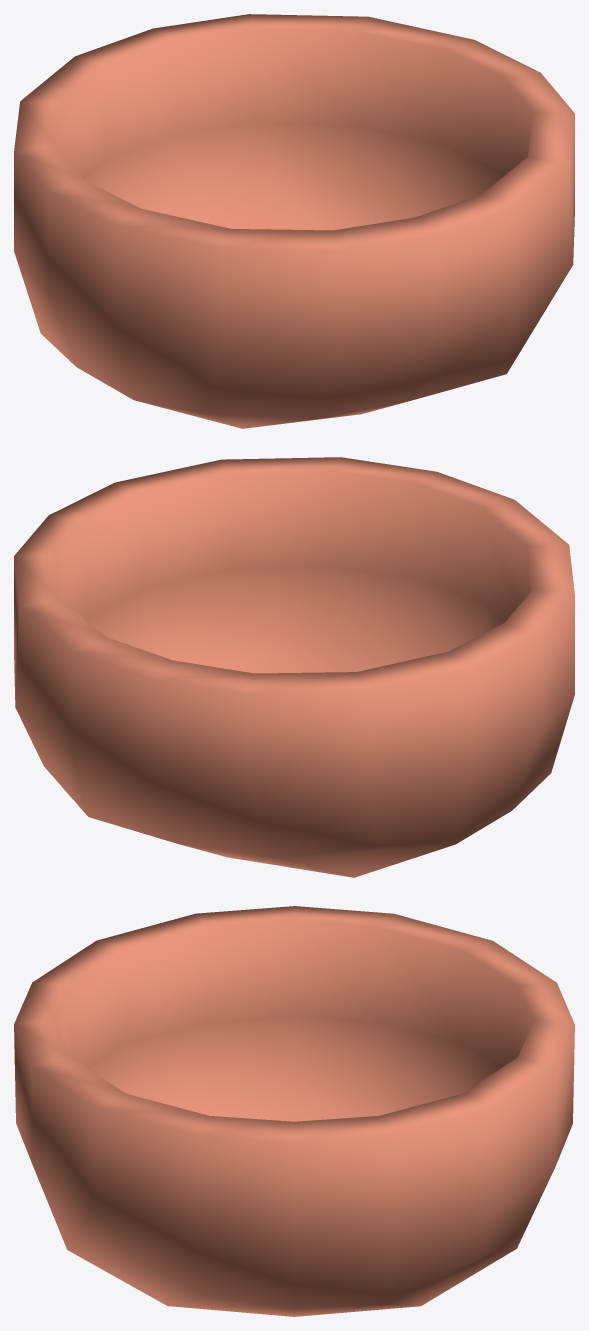
Rendered from Bakery_Bowl_01.fbx.
The picture shows the model from 3 angles, top to bottom: view 1: azimuth 30°, elevation 25°; view 2: azimuth 150°, elevation 25°; view 3: azimuth 270°, elevation 25°; orthographic projection.
Parts seen in each view (by area): view 1: Bakery_Bowl_01; view 2: Bakery_Bowl_01; view 3: Bakery_Bowl_01.
Part boxes in pixels (<box>): Bakery_Bowl_01: <box>14,14,574,428</box>; Bakery_Bowl_01: <box>14,457,574,877</box>; Bakery_Bowl_01: <box>14,906,574,1316</box>.
Size of the model in its own units: 63.36 by 30.28 by 63.36.
